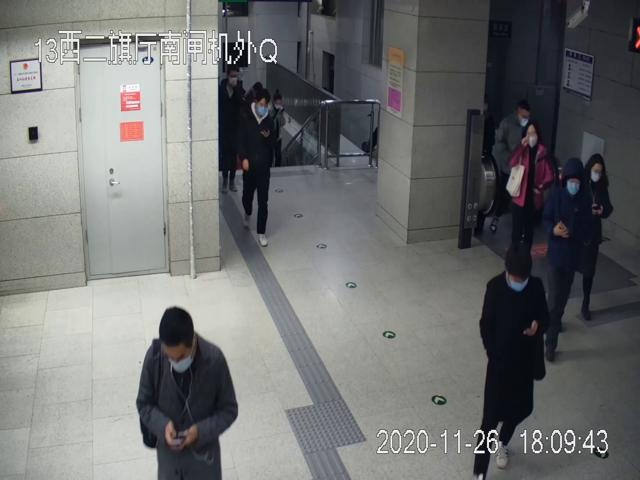person: (473, 242, 549, 480), (137, 306, 239, 480), (541, 156, 593, 363), (510, 120, 553, 256), (241, 88, 276, 248)
